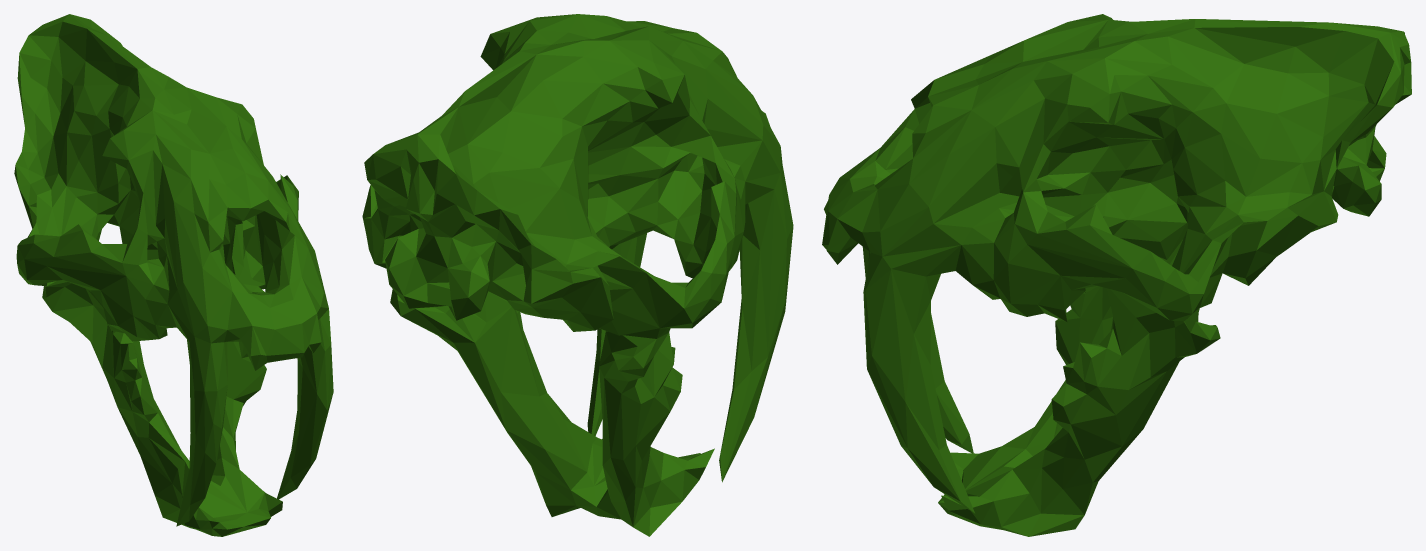
The model's file is SkeletonSmilodon.fbx.
3 renders of one model, left to right at view 1: azimuth 30°, elevation 25°; view 2: azimuth 150°, elevation 25°; view 3: azimuth 270°, elevation 25°, orthographic. The views are drawn at different scales.
Parts seen in each view (by area): view 1: SkeletonSmilodon; view 2: SkeletonSmilodon; view 3: SkeletonSmilodon.
Boxes of the visible parts, x1,y1,x2,y2 form: SkeletonSmilodon: (14,14,333,536); SkeletonSmilodon: (362,14,793,536); SkeletonSmilodon: (822,14,1411,536).
Size of the model in its own units: 144 by 206 by 223.
